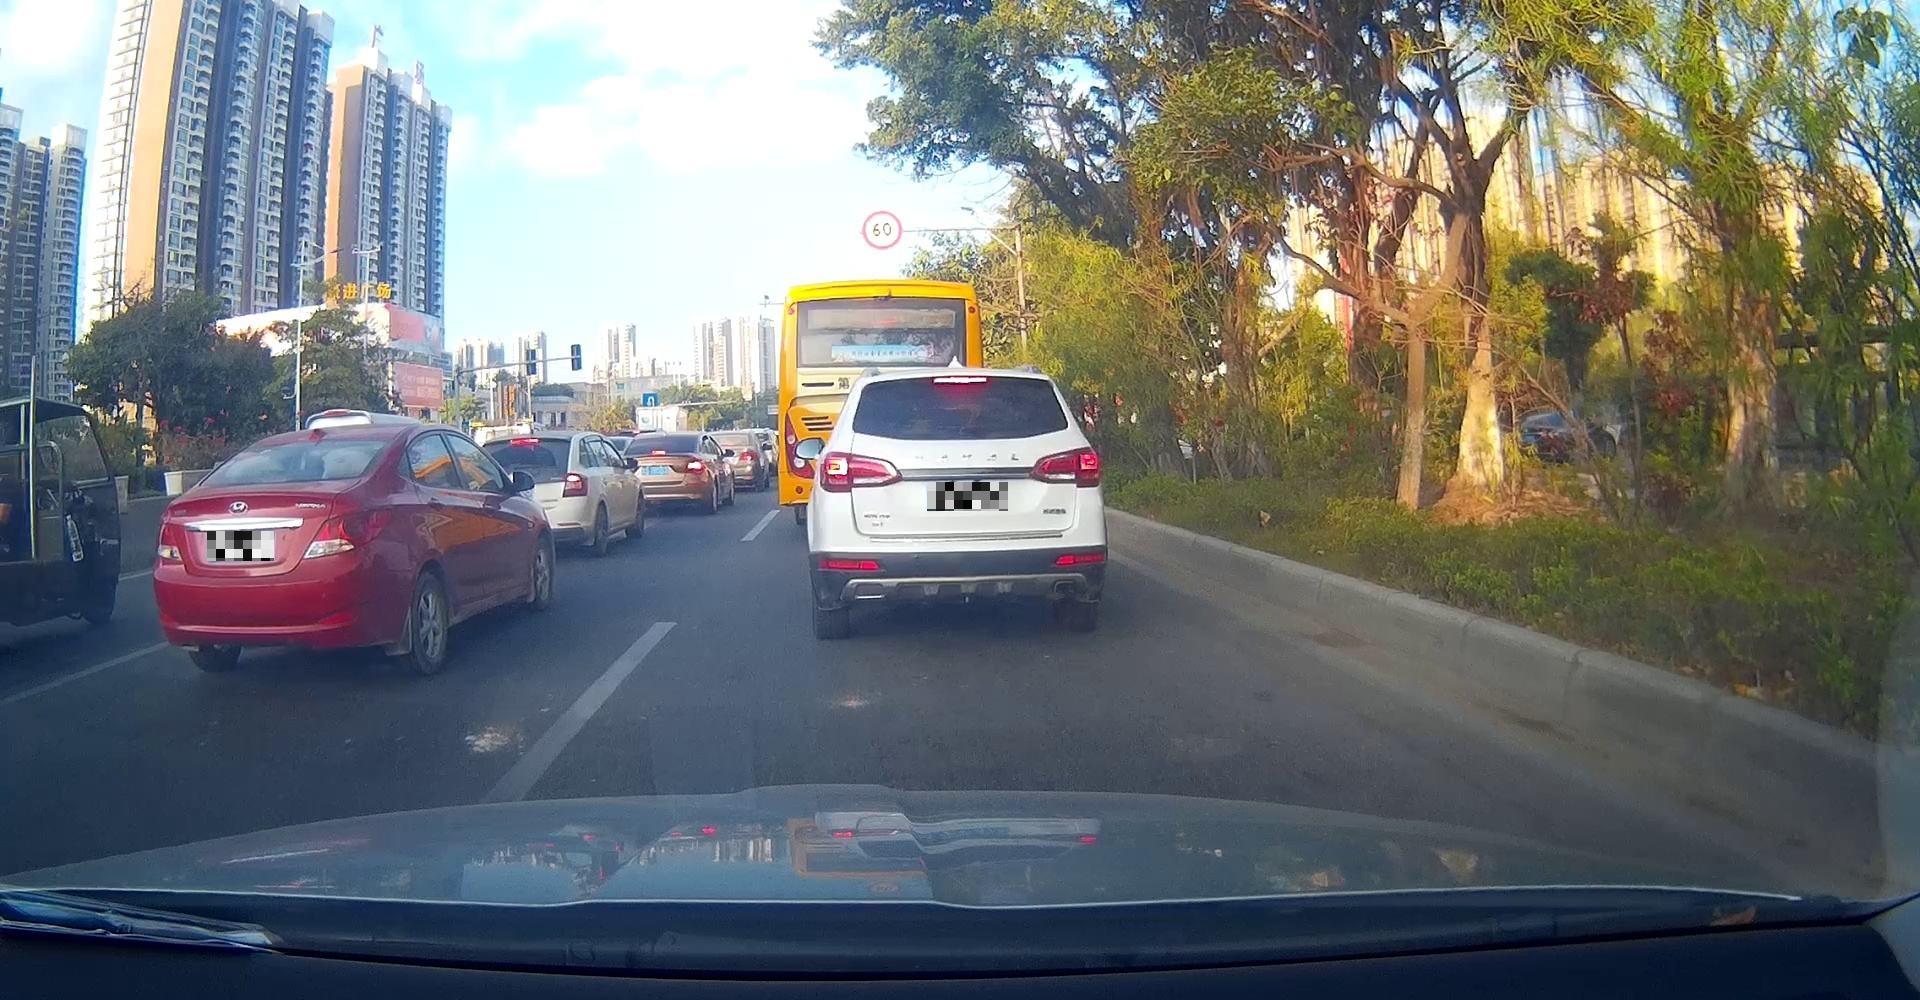L_light: (818, 451, 902, 492), (155, 522, 182, 566)
R_light: (301, 508, 394, 558), (1030, 445, 1102, 489)
T_light: (930, 376, 985, 383), (290, 438, 331, 447)
day-brake: (808, 369, 1107, 631)
day-no: (152, 426, 408, 673)
plate_1: (207, 530, 274, 561)
plate_2: (927, 482, 1008, 511)
